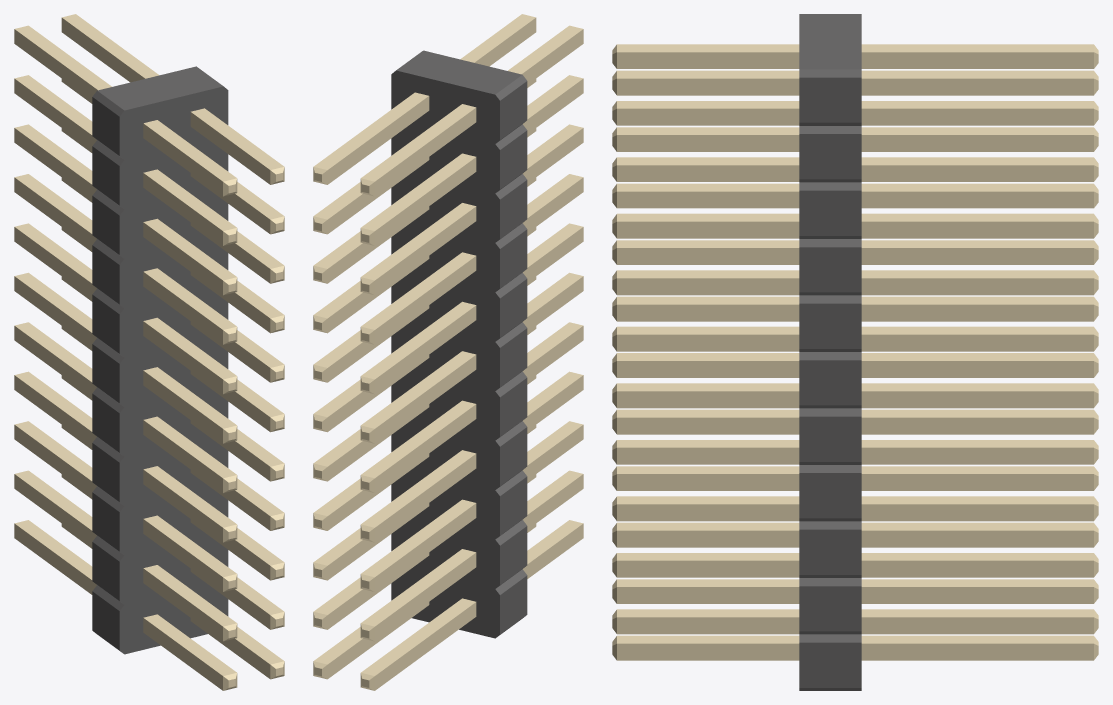
The model's file is PinHeader_2x11_P1.00mm_Vertical.glb.
3 renders of one model, left to right at view 1: azimuth 30°, elevation 25°; view 2: azimuth 150°, elevation 25°; view 3: azimuth 270°, elevation 25°, orthographic. The views are drawn at different scales.
Visible parts, largest first — view 1: Shape_IndexedFaceSet.003, Shape_IndexedFaceSet.001, Shape_IndexedFaceSet.117, Shape_IndexedFaceSet.174, Shape_IndexedFaceSet.201, Shape_IndexedFaceSet.086, Shape_IndexedFaceSet.178, Shape_IndexedFaceSet.185, Shape_IndexedFaceSet.213, Shape_IndexedFaceSet.241, Shape_IndexedFaceSet.170, Shape_IndexedFaceSet.189 (+69 smaller); view 2: Shape_IndexedFaceSet.004, Shape_IndexedFaceSet.001, Shape_IndexedFaceSet.205, Shape_IndexedFaceSet.174, Shape_IndexedFaceSet.170, Shape_IndexedFaceSet.229, Shape_IndexedFaceSet.178, Shape_IndexedFaceSet.185, Shape_IndexedFaceSet.189, Shape_IndexedFaceSet.209, Shape_IndexedFaceSet.213, Shape_IndexedFaceSet.235 (+69 smaller); view 3: Shape_IndexedFaceSet.164, Shape_IndexedFaceSet.172, Shape_IndexedFaceSet.176, Shape_IndexedFaceSet.180, Shape_IndexedFaceSet.183, Shape_IndexedFaceSet.203, Shape_IndexedFaceSet.207, Shape_IndexedFaceSet.211, Shape_IndexedFaceSet.219, Shape_IndexedFaceSet.224, Shape_IndexedFaceSet.227, Shape_IndexedFaceSet.232 (+88 smaller).
Boxes of the visible parts, <box> form: Shape_IndexedFaceSet.003: <box>119,86,228,654</box>; Shape_IndexedFaceSet.001: <box>97,66,223,110</box>; Shape_IndexedFaceSet.117: <box>190,112,270,184</box>; Shape_IndexedFaceSet.174: <box>14,276,96,347</box>; Shape_IndexedFaceSet.201: <box>14,29,97,100</box>; Shape_IndexedFaceSet.086: <box>143,371,222,443</box>; Shape_IndexedFaceSet.178: <box>14,78,96,149</box>; Shape_IndexedFaceSet.185: <box>14,177,96,248</box>; Shape_IndexedFaceSet.213: <box>14,375,96,446</box>; Shape_IndexedFaceSet.241: <box>14,474,96,545</box>; Shape_IndexedFaceSet.170: <box>14,227,96,298</box>; Shape_IndexedFaceSet.189: <box>14,128,96,199</box>; Shape_IndexedFaceSet.004: <box>391,70,499,638</box>; Shape_IndexedFaceSet.001: <box>396,50,521,94</box>; Shape_IndexedFaceSet.205: <box>327,96,429,184</box>; Shape_IndexedFaceSet.174: <box>375,355,476,443</box>; Shape_IndexedFaceSet.170: <box>375,305,476,393</box>; Shape_IndexedFaceSet.229: <box>375,404,476,492</box>; Shape_IndexedFaceSet.178: <box>375,157,476,245</box>; Shape_IndexedFaceSet.185: <box>375,256,476,344</box>; Shape_IndexedFaceSet.189: <box>375,206,476,294</box>; Shape_IndexedFaceSet.209: <box>375,503,476,591</box>; Shape_IndexedFaceSet.213: <box>375,454,476,542</box>; Shape_IndexedFaceSet.235: <box>375,602,476,690</box>; Shape_IndexedFaceSet.164: <box>861,304,1093,321</box>; Shape_IndexedFaceSet.172: <box>861,278,1093,295</box>; Shape_IndexedFaceSet.176: <box>861,334,1093,351</box>; Shape_IndexedFaceSet.180: <box>861,108,1093,125</box>; Shape_IndexedFaceSet.183: <box>861,221,1093,238</box>; Shape_IndexedFaceSet.203: <box>861,78,1093,95</box>; Shape_IndexedFaceSet.207: <box>861,504,1093,521</box>; Shape_IndexedFaceSet.211: <box>861,447,1093,464</box>; Shape_IndexedFaceSet.219: <box>861,530,1093,547</box>; Shape_IndexedFaceSet.224: <box>861,417,1093,434</box>; Shape_IndexedFaceSet.227: <box>861,391,1093,408</box>; Shape_IndexedFaceSet.232: <box>861,643,1093,660</box>.
Size of the model in its own units: 0.906 by 4.33 by 3.07.
